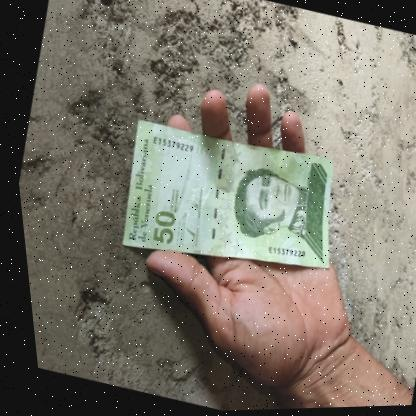fifty-front-vef: (101, 109, 353, 298)
